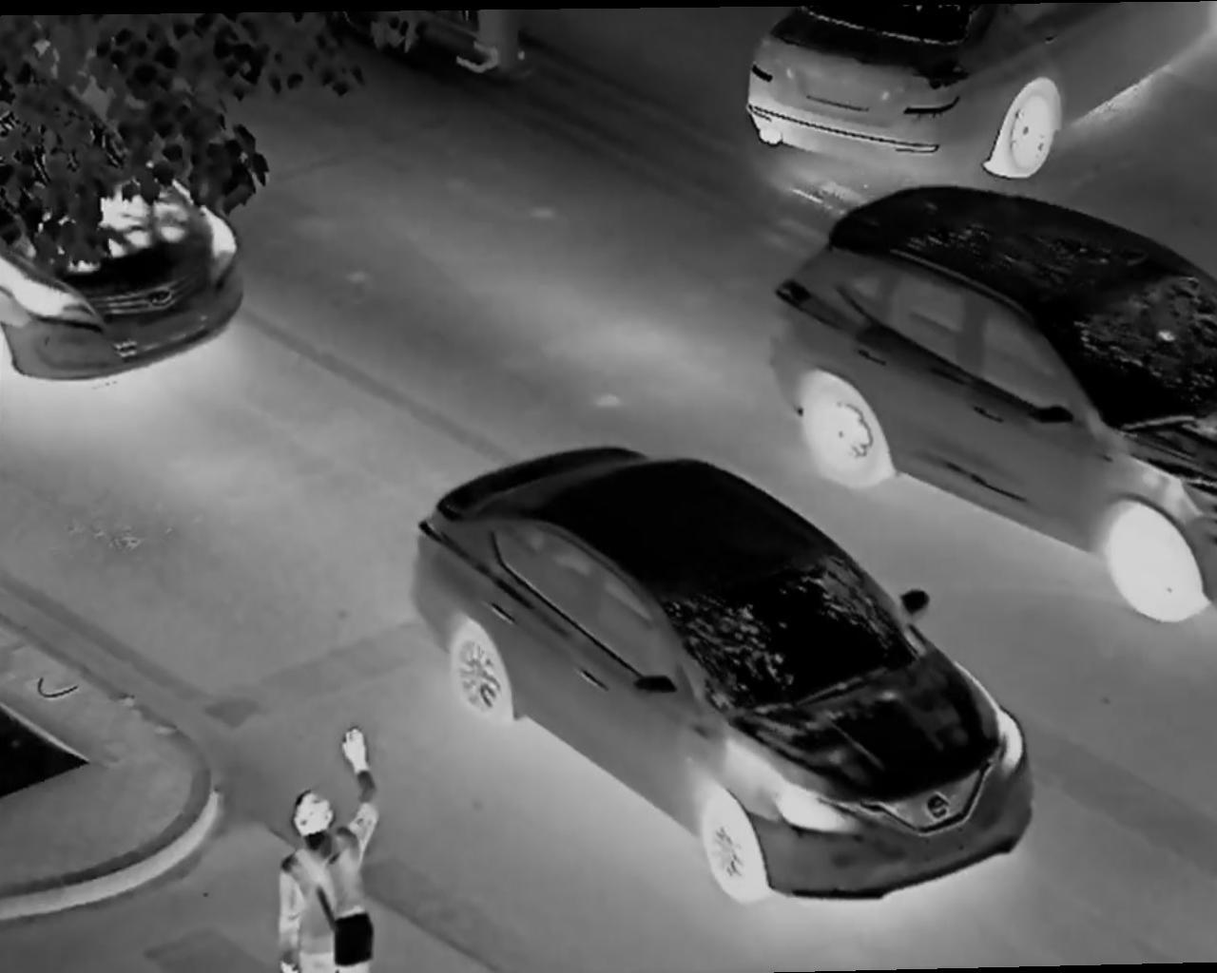person: (275, 725, 387, 973)
